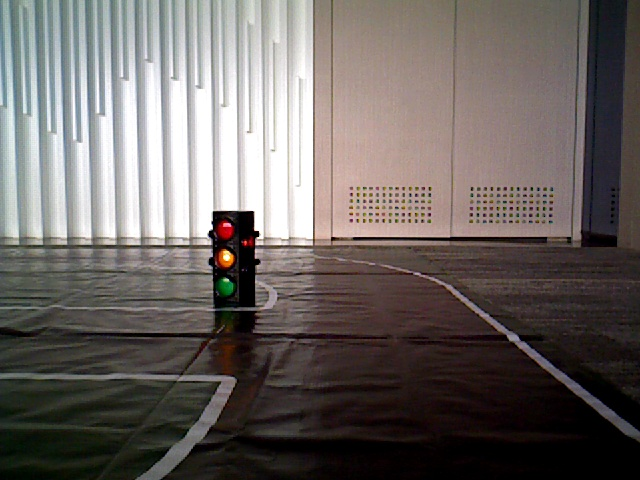yellow: (211, 213, 239, 298)
